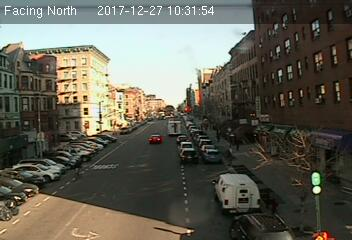bicycle: (68, 158, 86, 182)
car: (229, 211, 292, 240), (180, 147, 199, 164), (203, 149, 222, 162), (147, 134, 161, 144), (179, 141, 193, 147)
truck: (214, 172, 260, 212), (166, 119, 181, 134)
